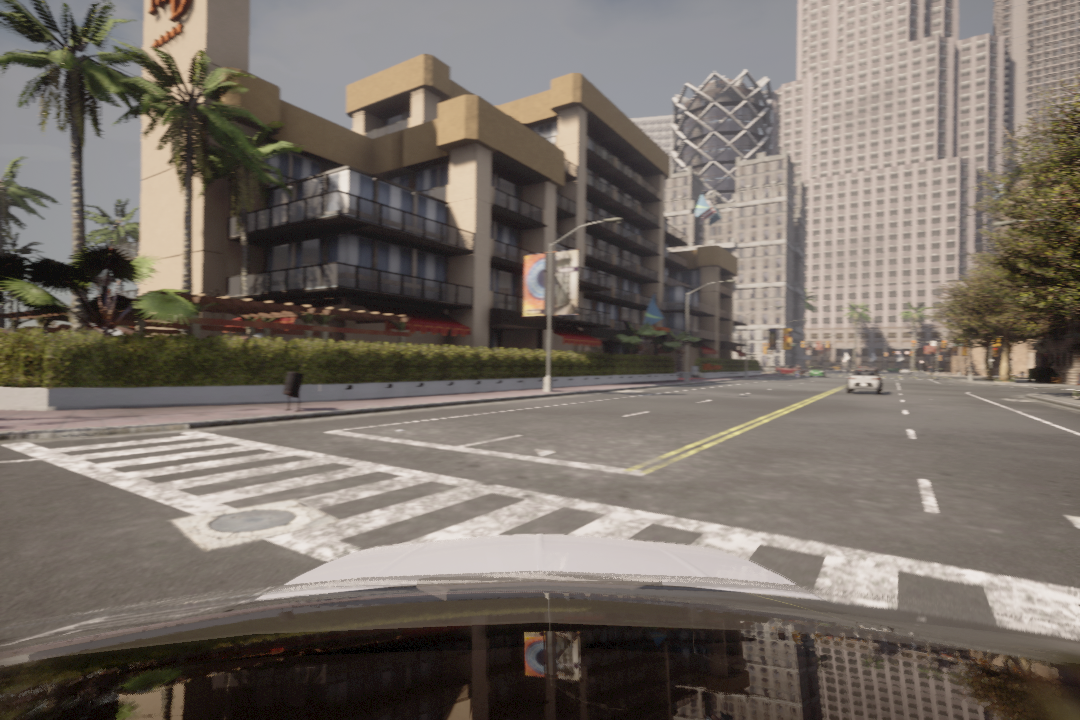walkside: (5, 433, 1080, 683)
